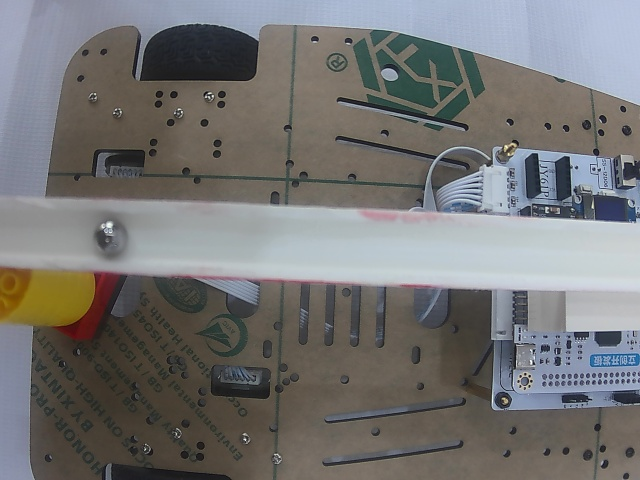steelball: (93, 219, 125, 254)
